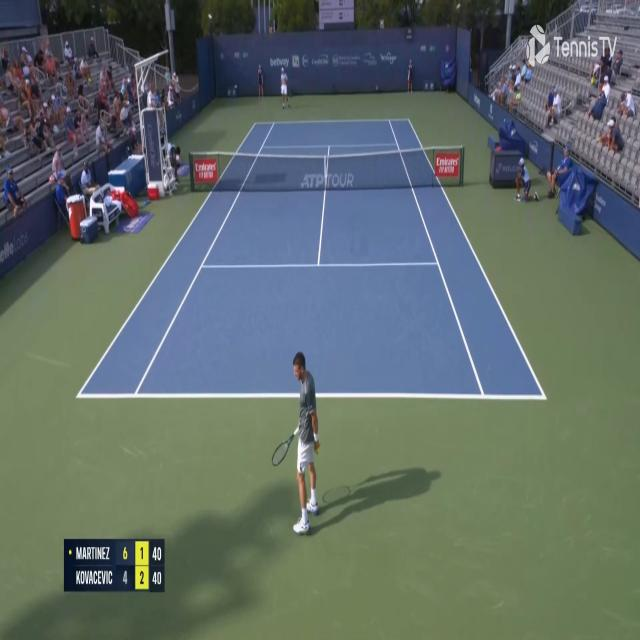tennis-player: (270, 345, 324, 539), (279, 64, 292, 110)
